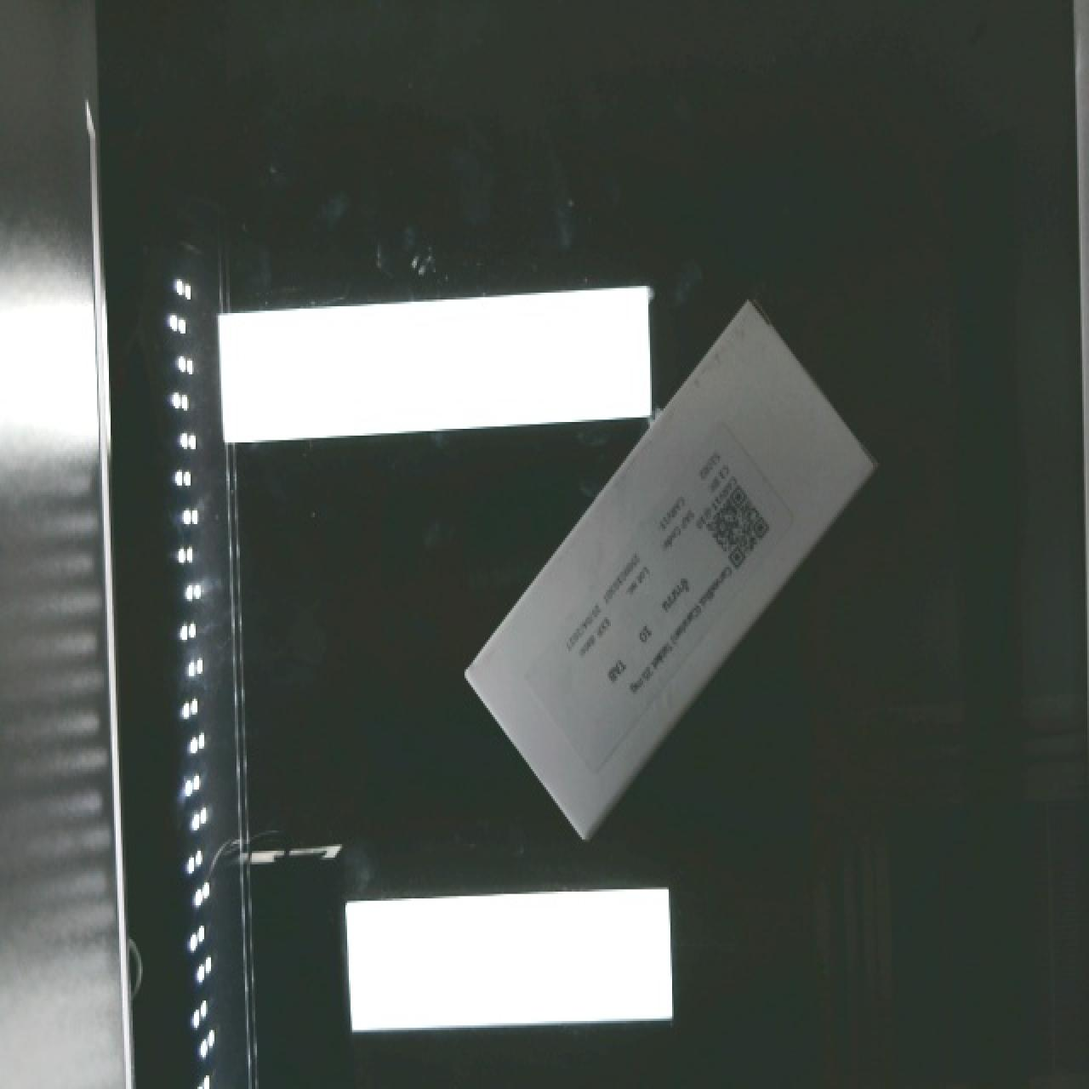qr_code: (682, 469, 790, 582)
